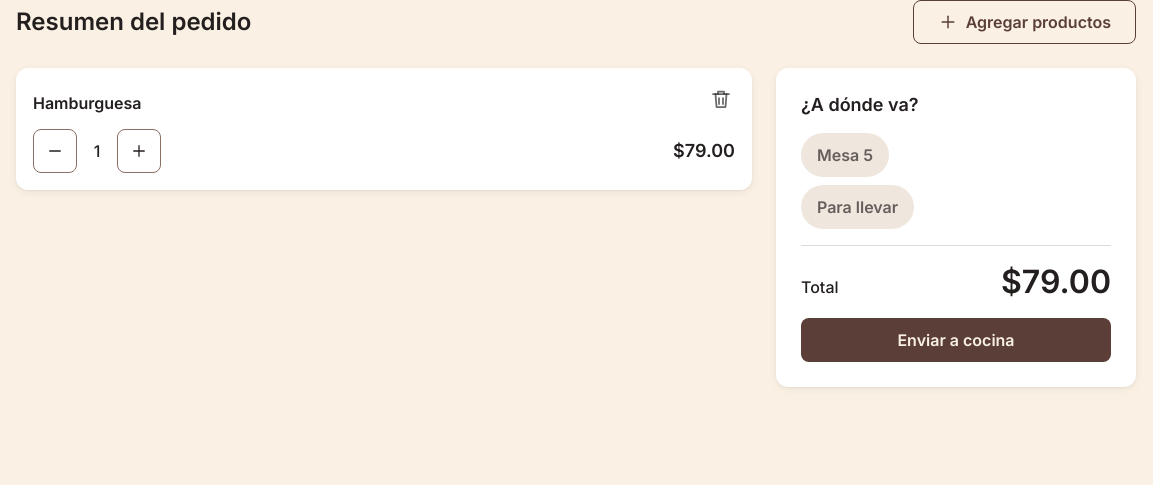
Scenario: OrderSummaryPageComponent › should show the table message and not send when neither a table nor take away is chosen
Click the button "Enviar a cocina" at (956, 340), box [801, 318, 1111, 362]
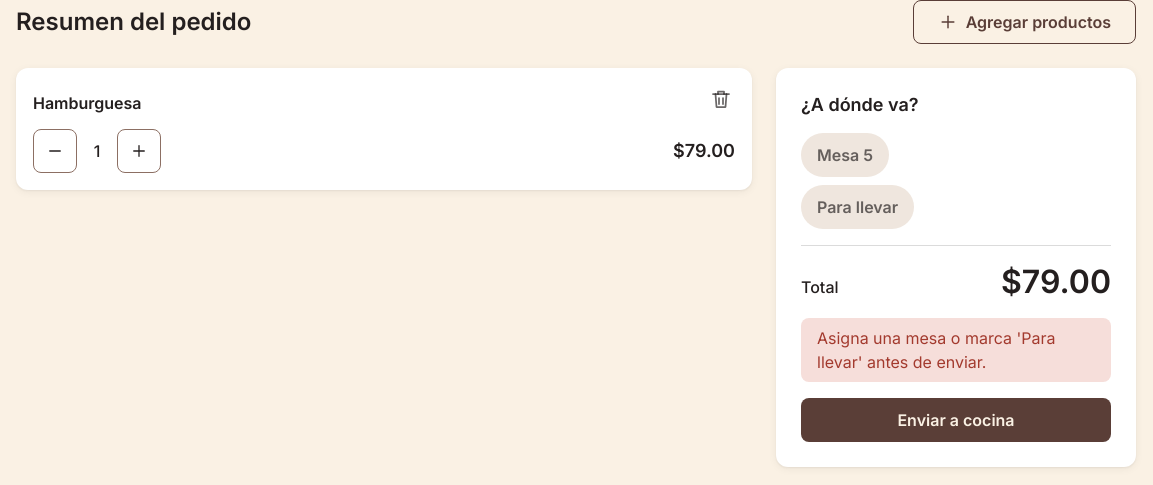
Check: the message "Asigna una mesa o marca 'Para llevar' antes de enviar." is shown, box [801, 318, 1111, 382]
